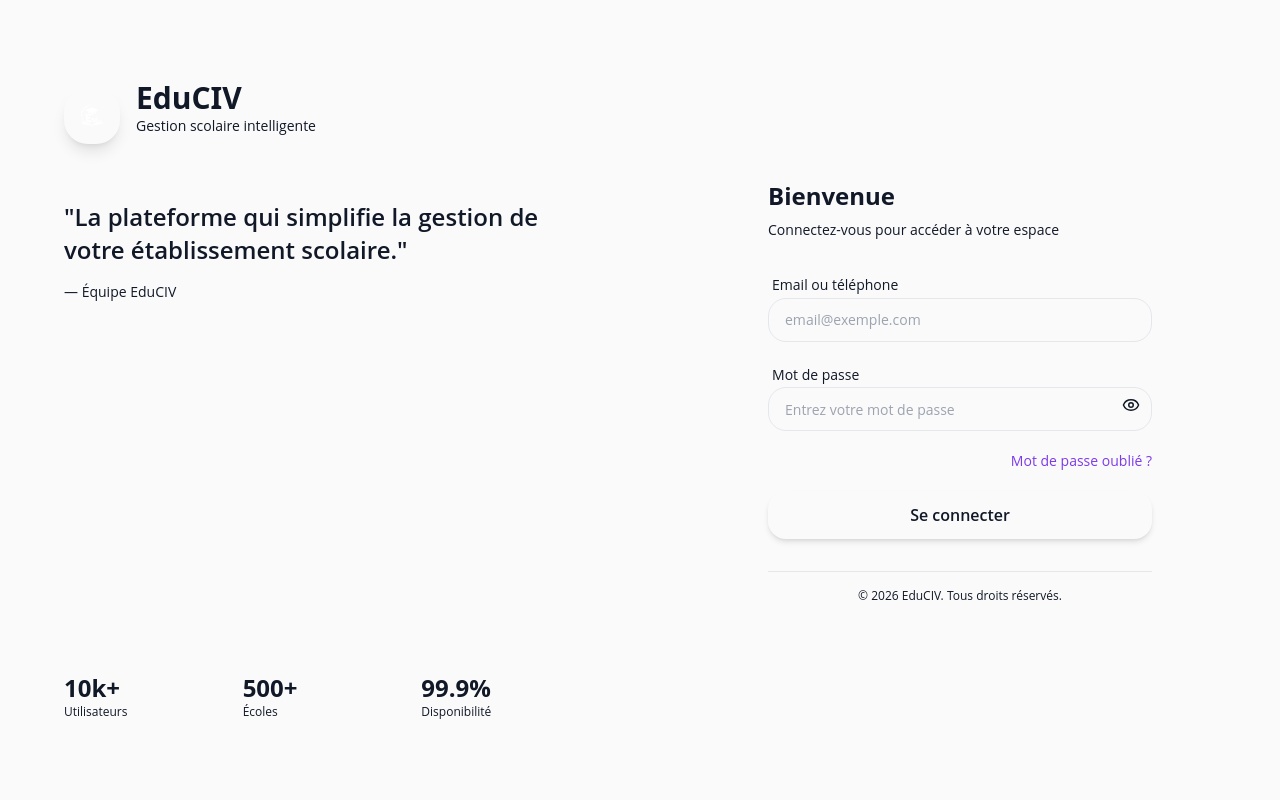
Test: LoginPage › shows validation error for short password
Type "test@test.com" into the field with placeholder "email@exemple.com" at (960, 320), box [768,298,1152,342]
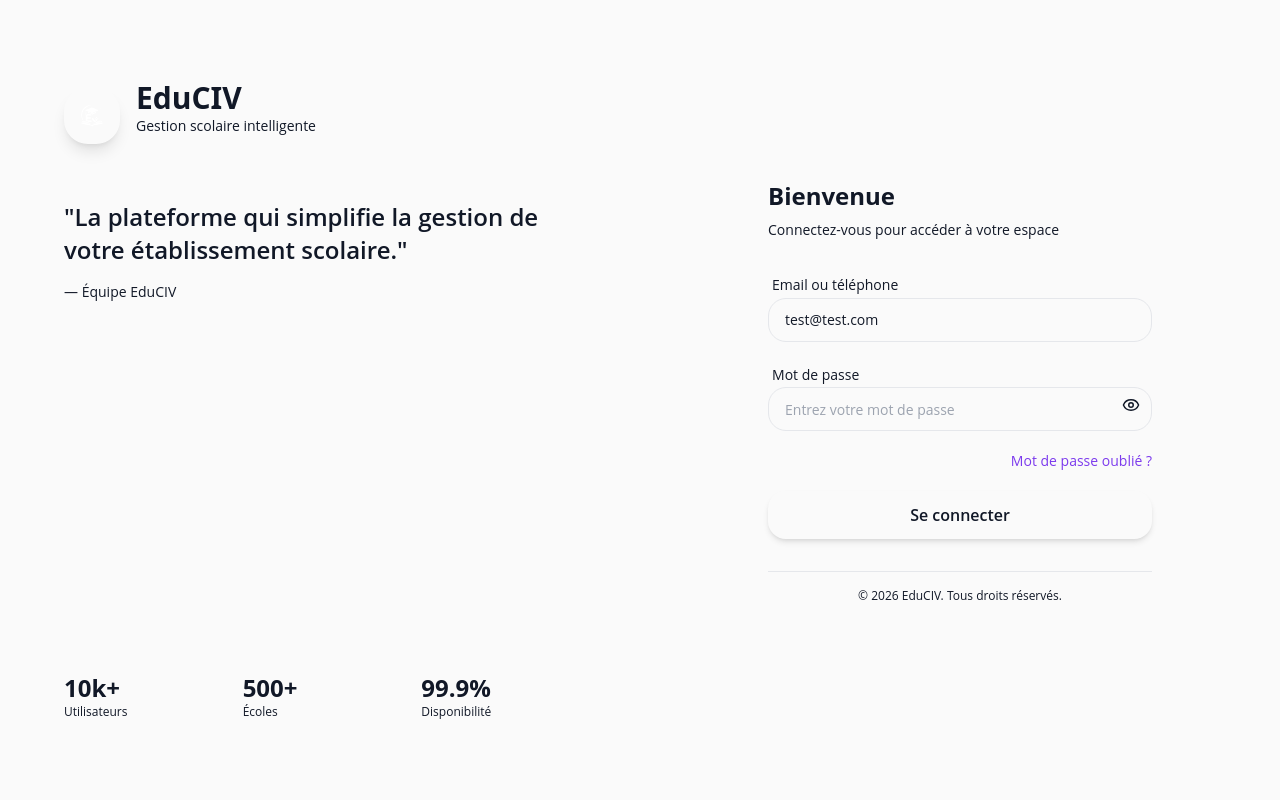
Type "123" into the password field with placeholder "Entrez votre mot de passe" at (960, 409), box [768,387,1152,431]
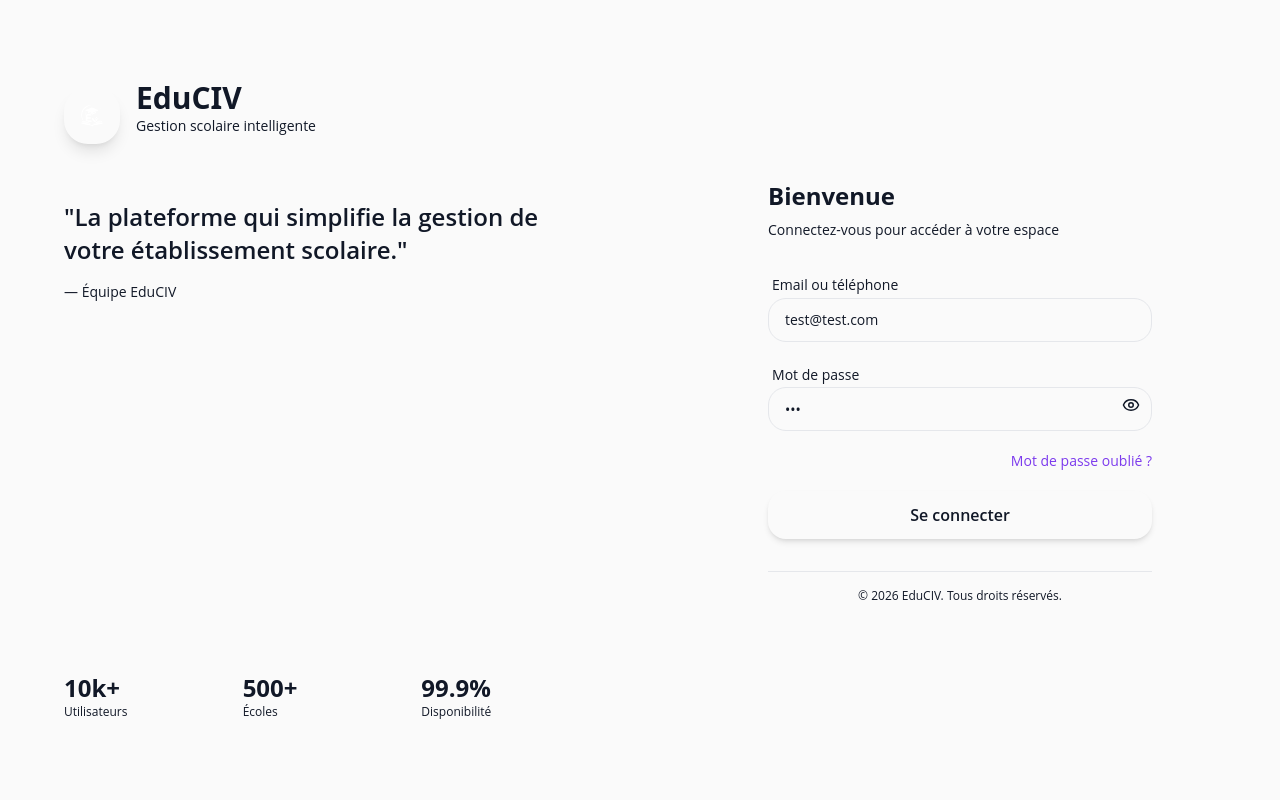
Click the button "Se connecter" at (960, 515), box [768,491,1152,539]
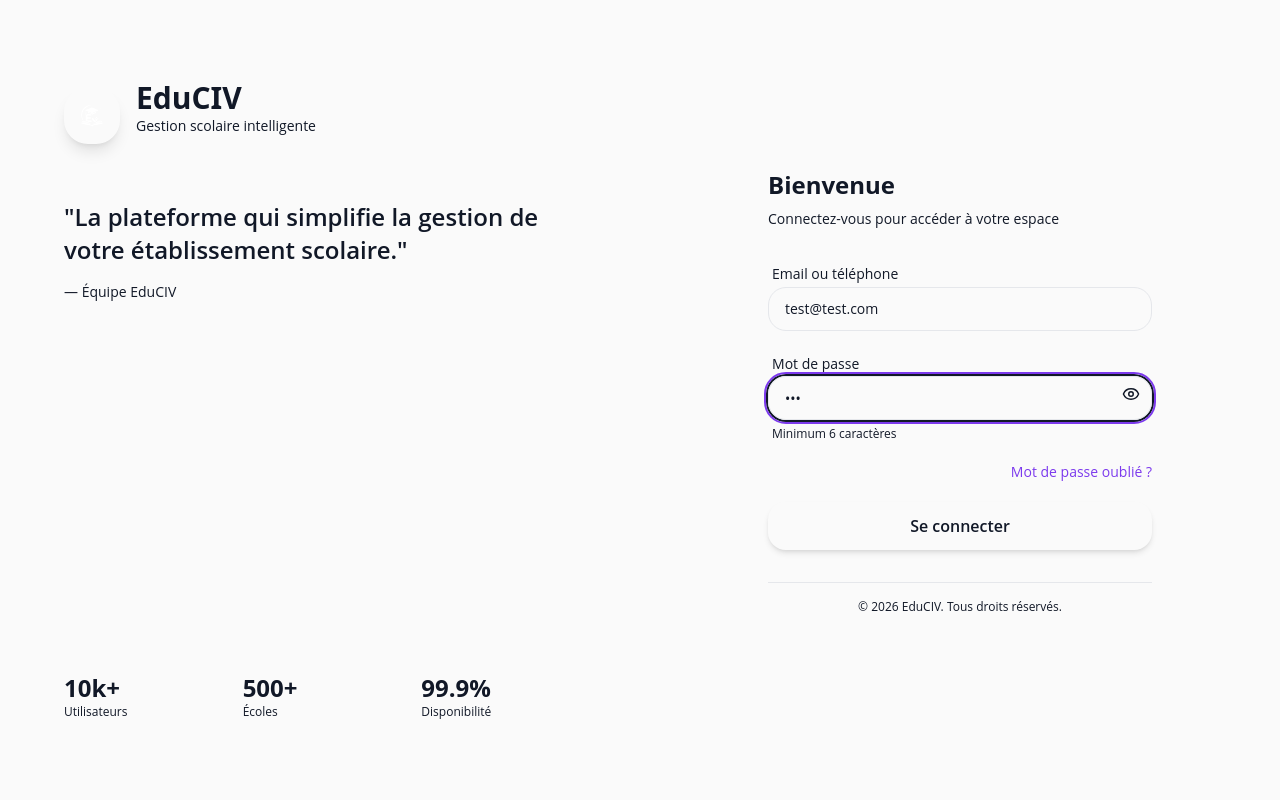
Expected: the text "Minimum 6 caractères" is shown, [772,425,897,442]
